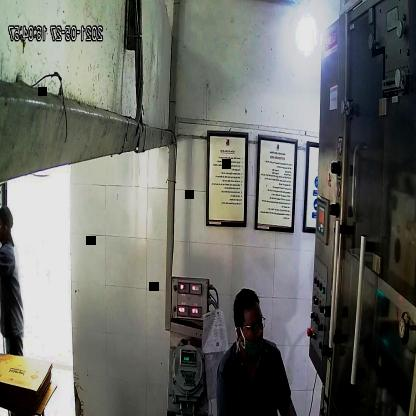goggles: (232, 314, 268, 338)
